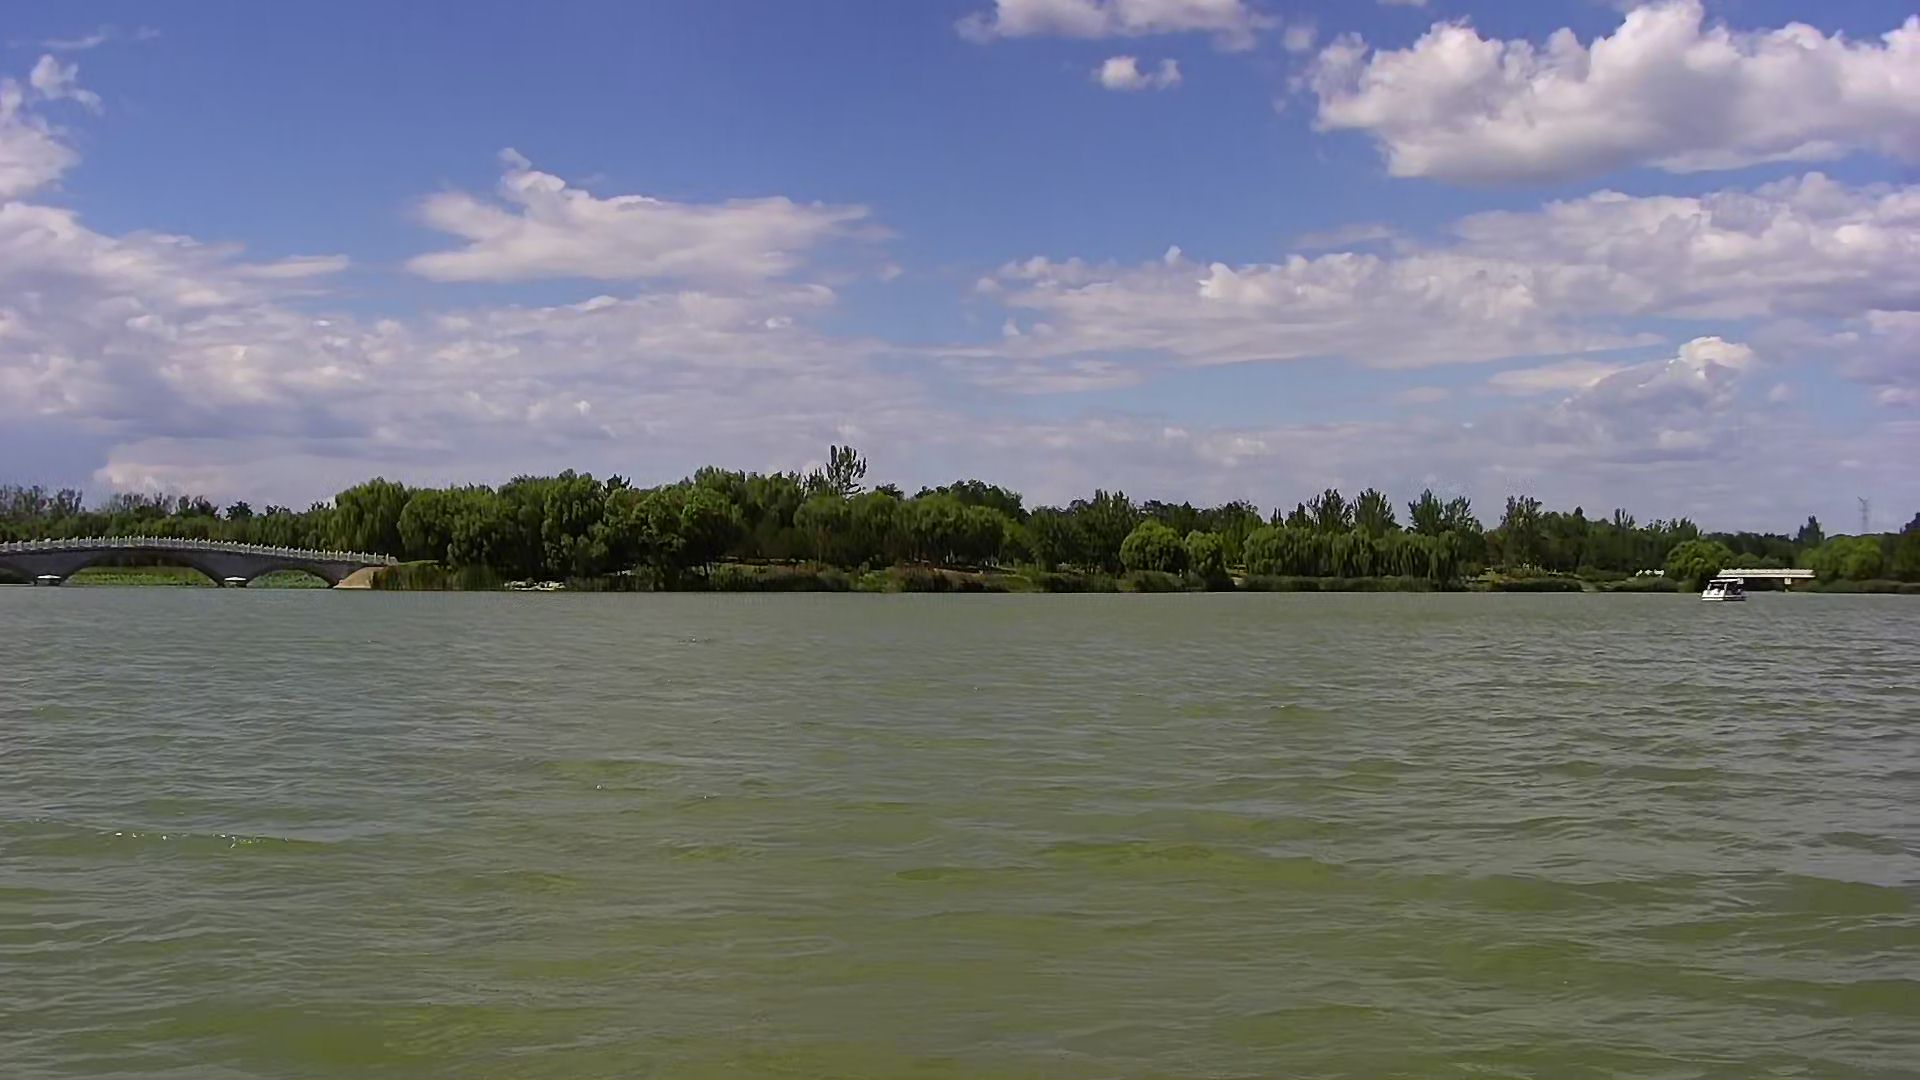boat: (1696, 564, 1750, 611)
bridge: (1, 526, 422, 595)
